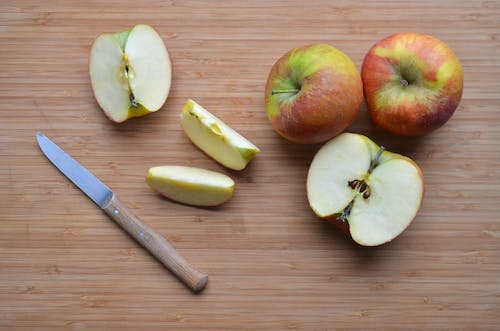knife: (36, 129, 209, 295)
